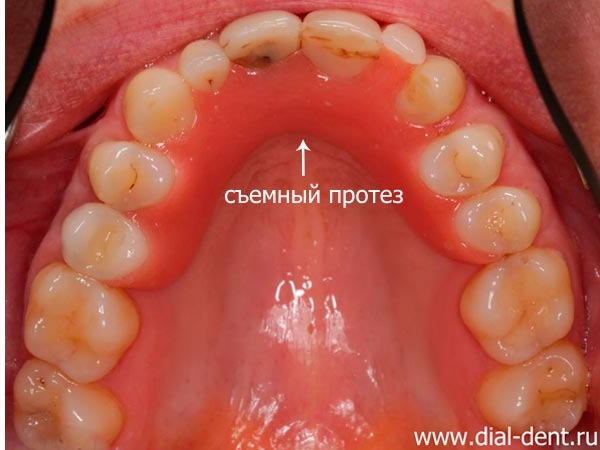UL1BC_decay: (420, 126, 503, 195)
UL1M_healthy: (465, 252, 571, 362)
UL2BC_healthy: (461, 188, 540, 253)
UL2M_decay: (483, 347, 583, 424)
ULCI_decay: (305, 10, 380, 77)
ULC_healthy: (403, 56, 462, 125)
ULLI_healthy: (382, 23, 425, 73)
UR1BC_decay: (91, 141, 173, 208)
UR1M_healthy: (26, 264, 132, 377)
UR2BC_healthy: (62, 202, 145, 279)
UR2M_decay: (13, 363, 115, 447)
URCI_decay: (219, 11, 303, 66)
URC_healthy: (124, 67, 192, 144)
URLI_decay: (182, 40, 229, 90)
